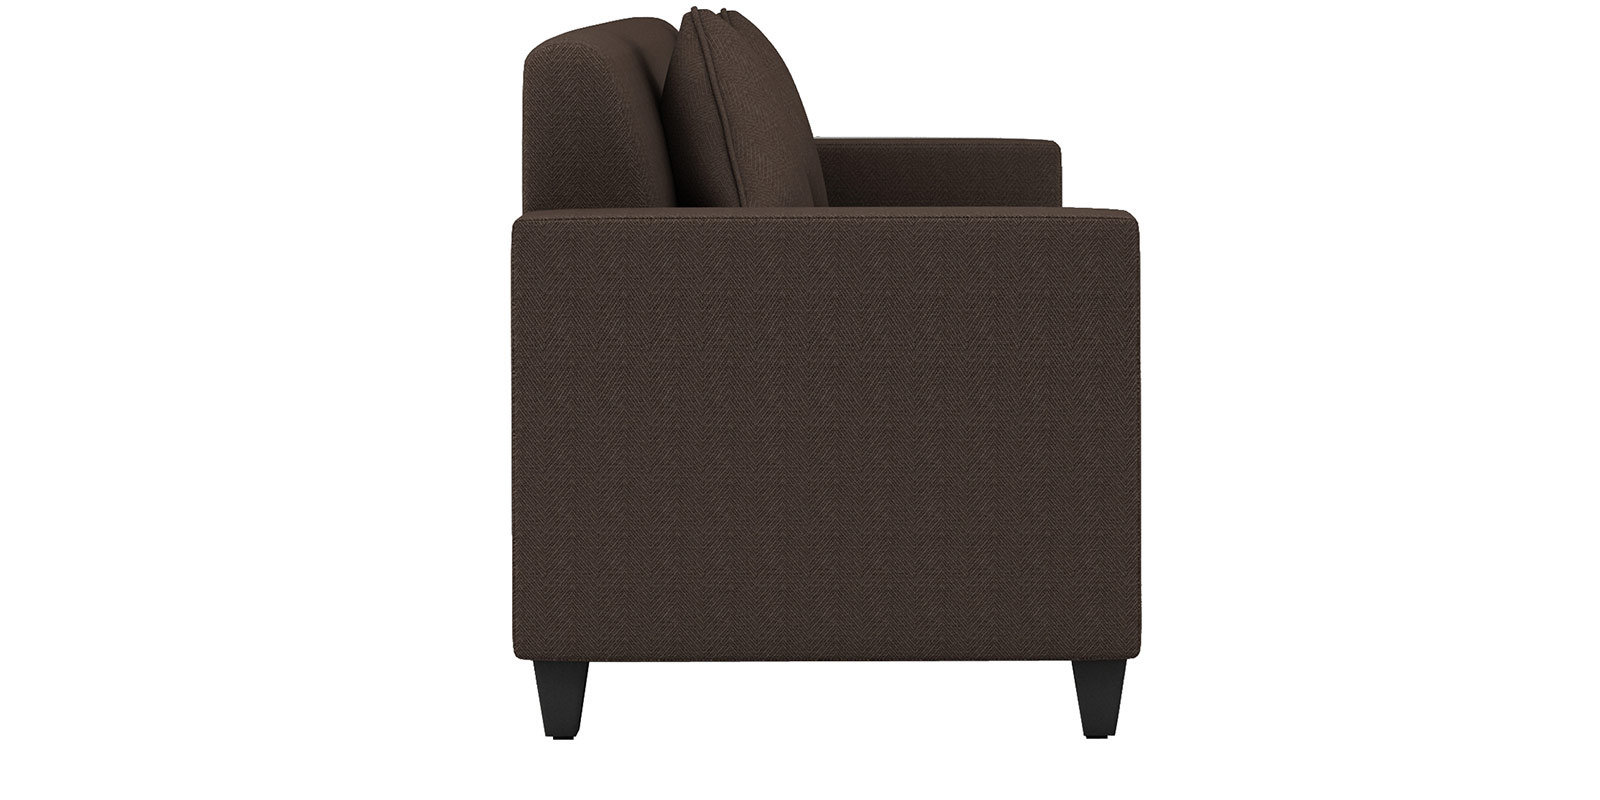Cooper Three Seater Sofa by ARRA: (487, 19, 1155, 728)
